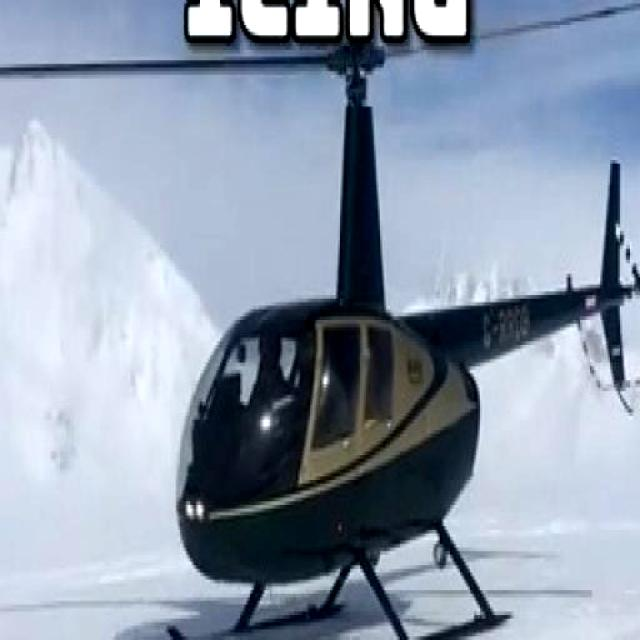drone: (162, 45, 640, 640)
